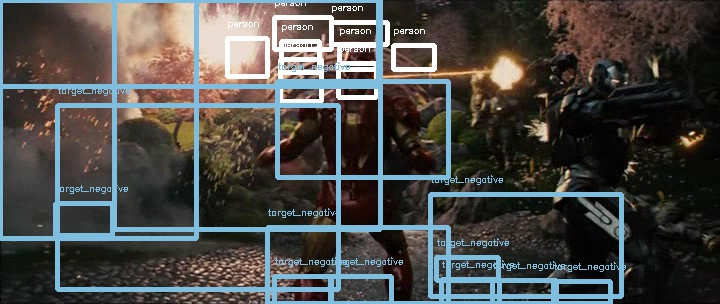person: (338, 44, 379, 89), (337, 44, 378, 89), (339, 44, 380, 89), (338, 43, 379, 88), (338, 45, 379, 90)
target_negative: (338, 37, 704, 242), (37, 103, 357, 302), (382, 77, 521, 270), (607, 29, 629, 113), (567, 91, 663, 108), (284, 130, 375, 142)
